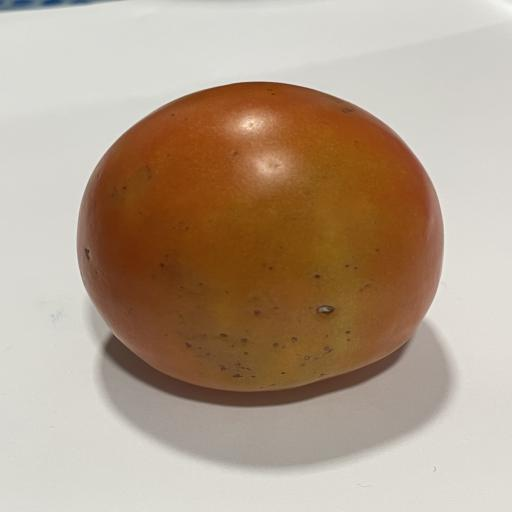unripe: (77, 82, 443, 391)
